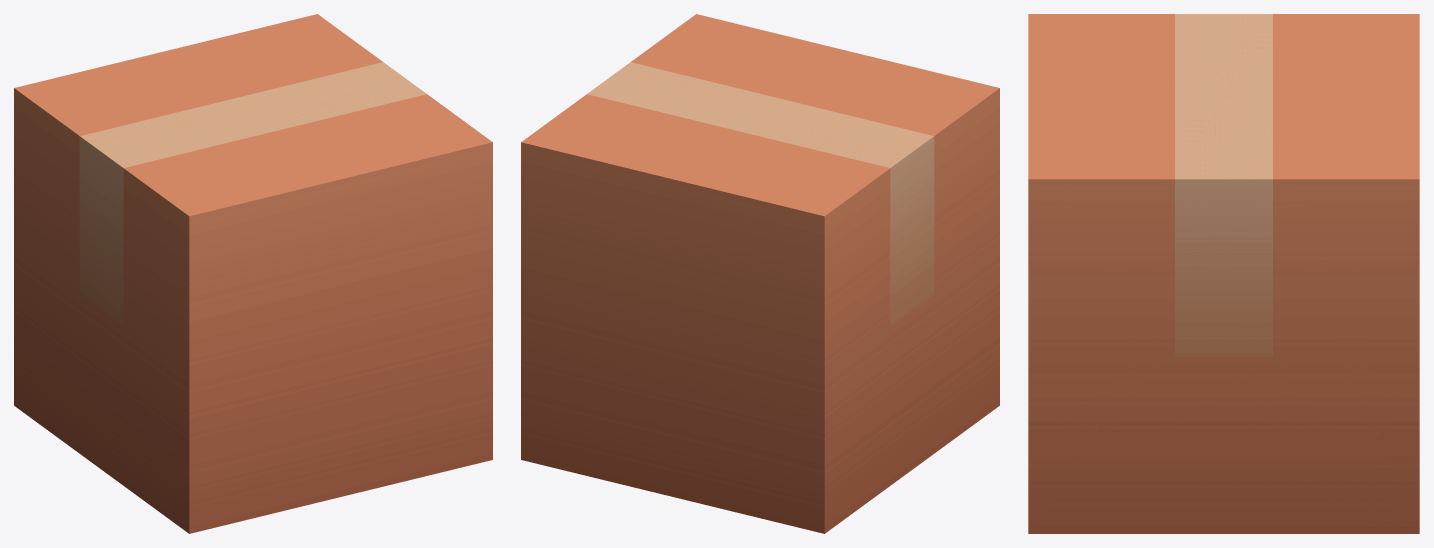
3 renders of one model, left to right at view 1: azimuth 30°, elevation 25°; view 2: azimuth 150°, elevation 25°; view 3: azimuth 270°, elevation 25°, orthographic. The views are drawn at different scales.
Visible parts, largest first — view 1: box-small; view 2: box-small; view 3: box-small.
Boxes of the visible parts, x1,y1,x2,y2 form: box-small: (14, 14, 492, 533); box-small: (521, 14, 999, 533); box-small: (1028, 14, 1419, 533).
Bounding box in the file's own units: 0.2 × 0.2 × 0.2.
Materials: 1 (1 with a texture image).
